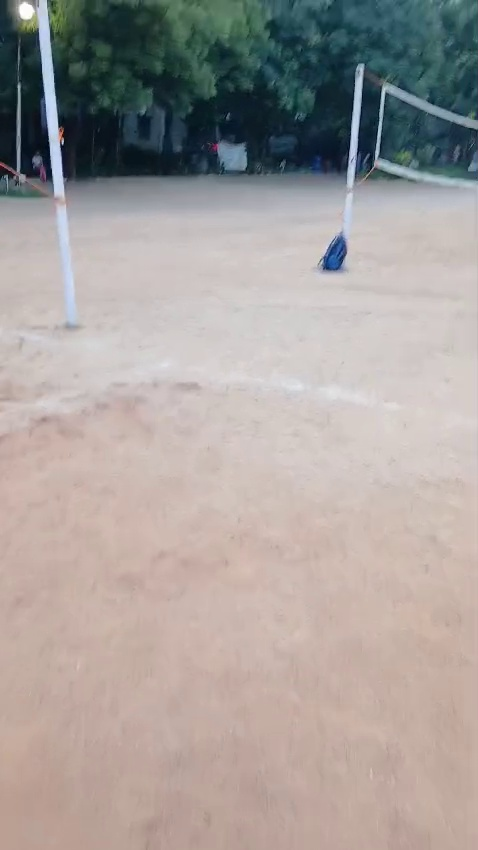bag: (314, 223, 354, 276)
